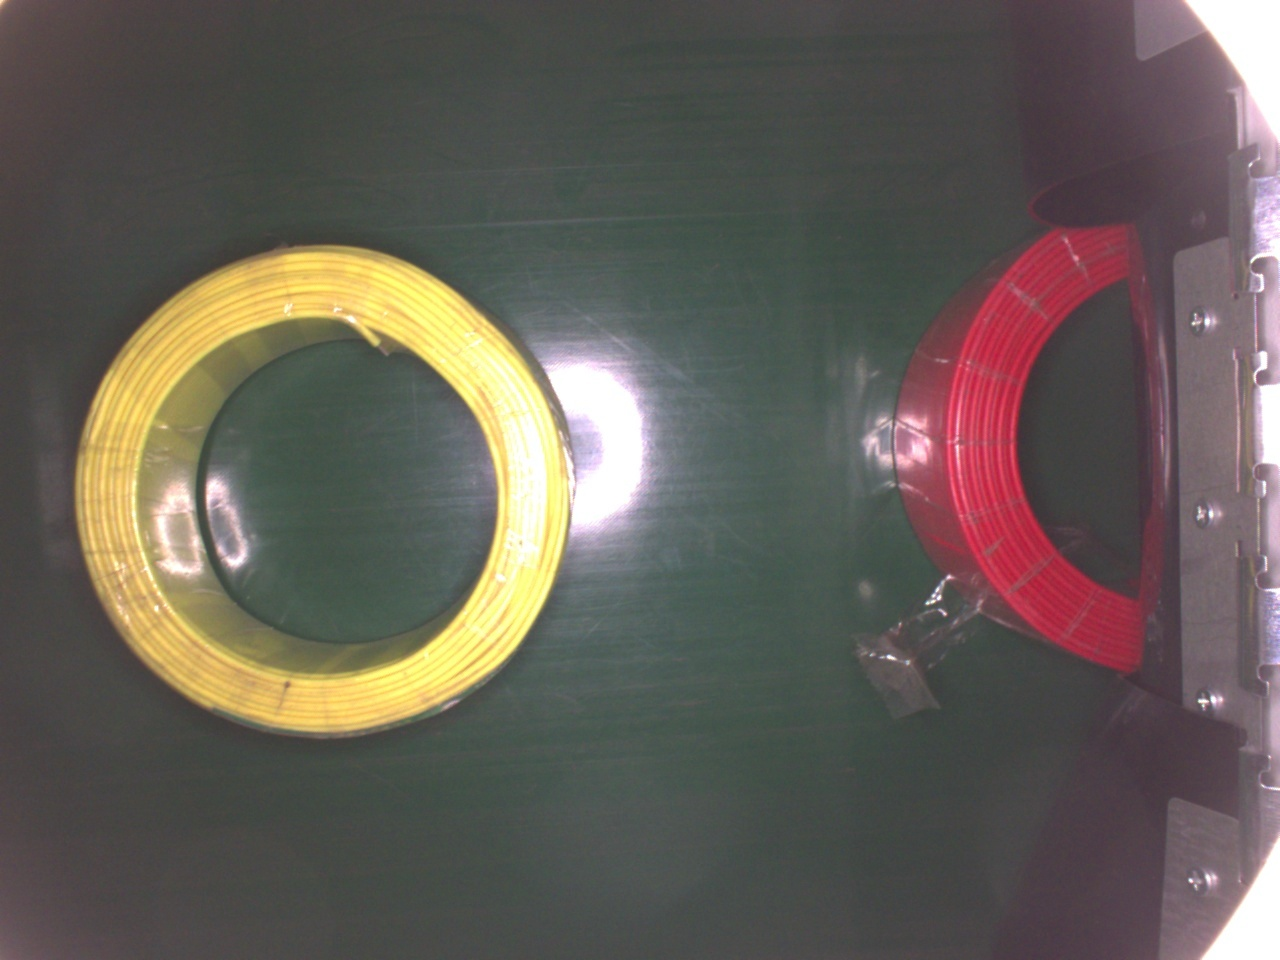red: (894, 226, 1172, 668)
yellow: (65, 239, 575, 740)
